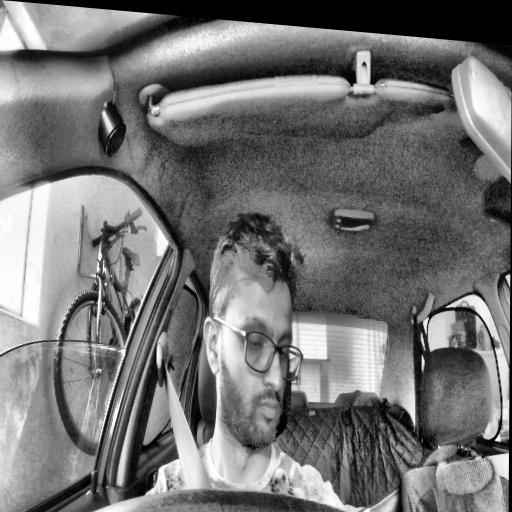awake: (202, 209, 303, 457)
